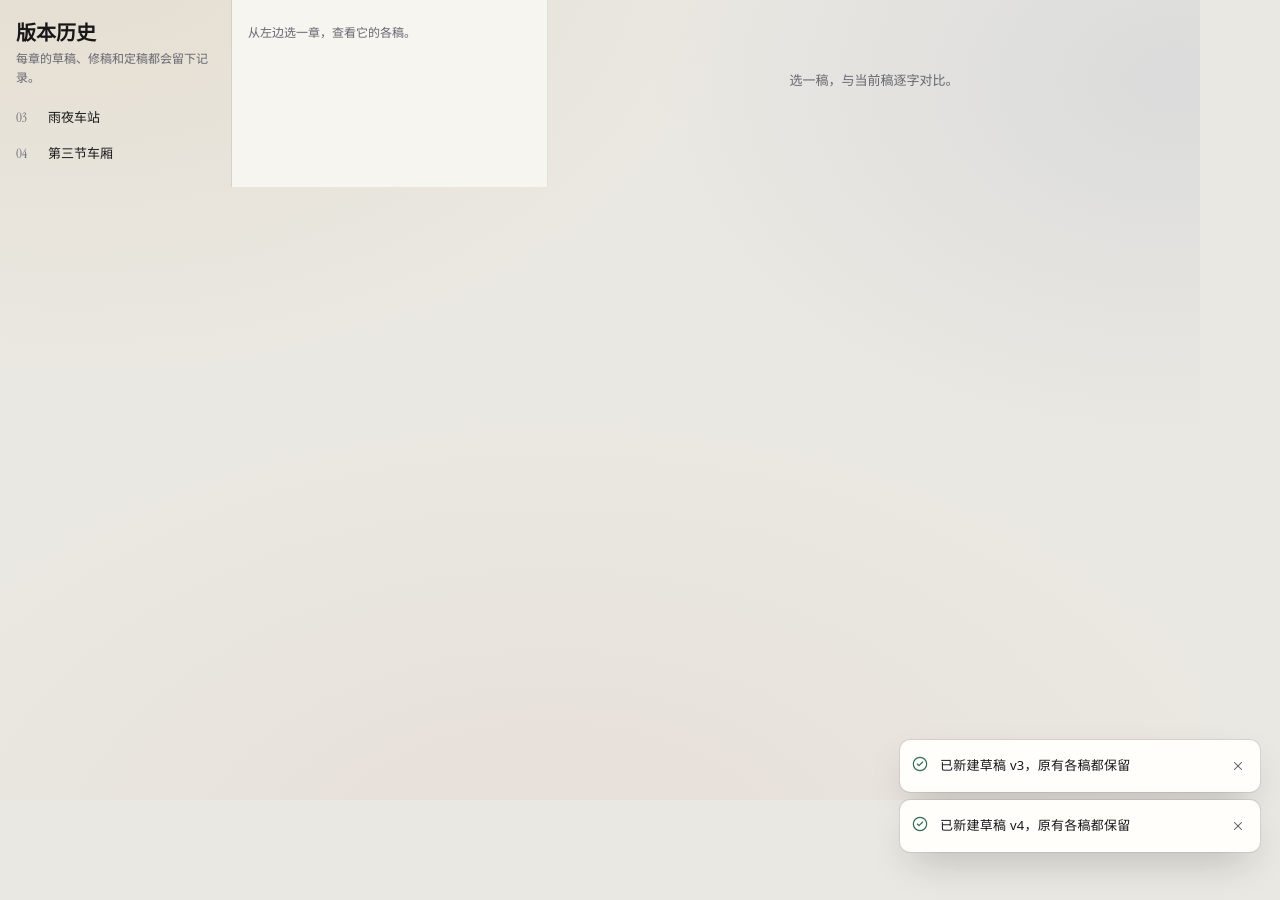
版本历史 › 当前稿没有回退按钮
Click the button "03 雨夜车站" at (116, 117), box [8, 99, 223, 135]
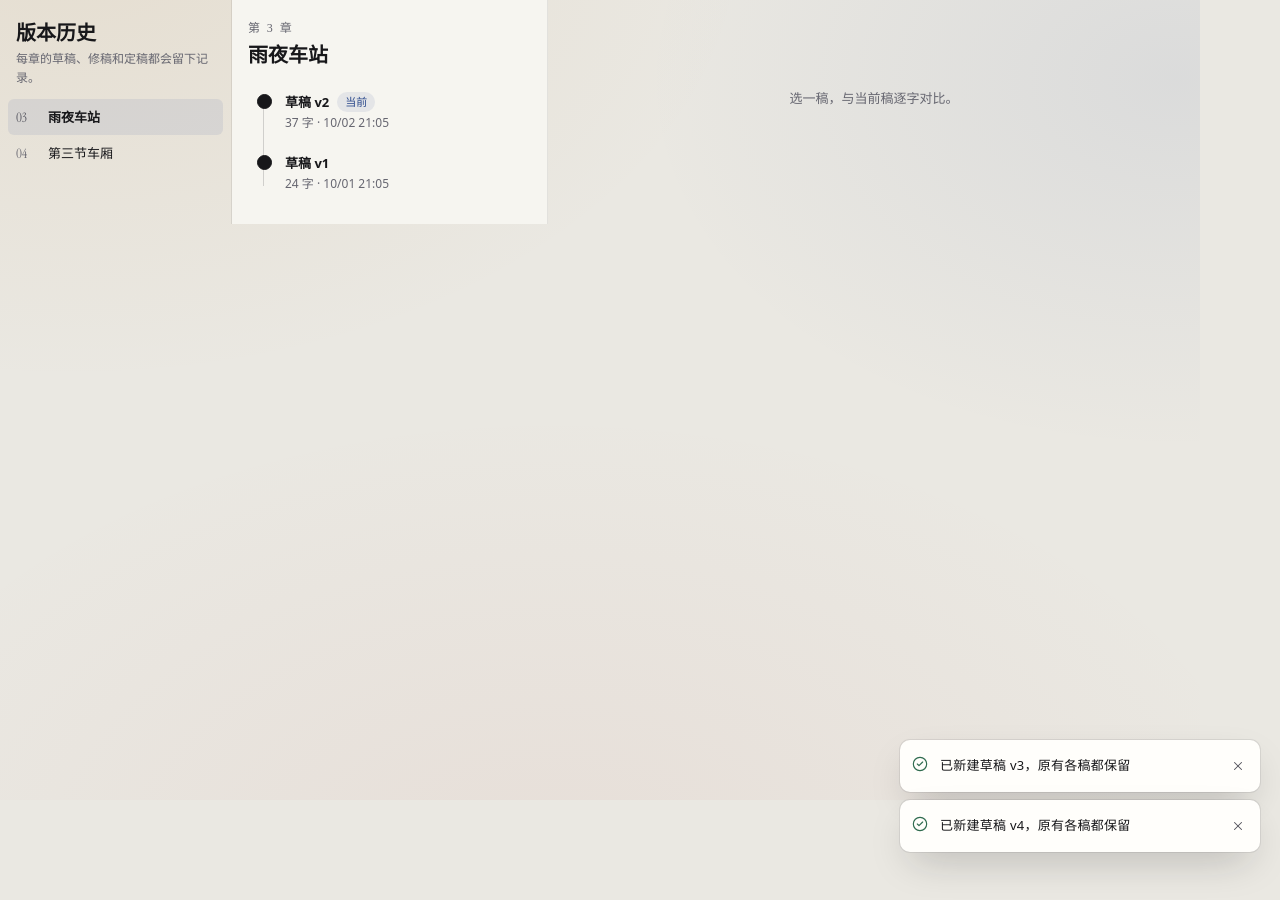
Now the button "草稿 v1 24 字 · 10/01 21:05" is shown, box [248, 144, 531, 202]
Now the button "草稿 v2 当前 37 字 · 10/02 21:05" is shown
Click the button "草稿 v2 当前 37 字 · 10/02 21:05" at (390, 112), box [248, 83, 531, 142]
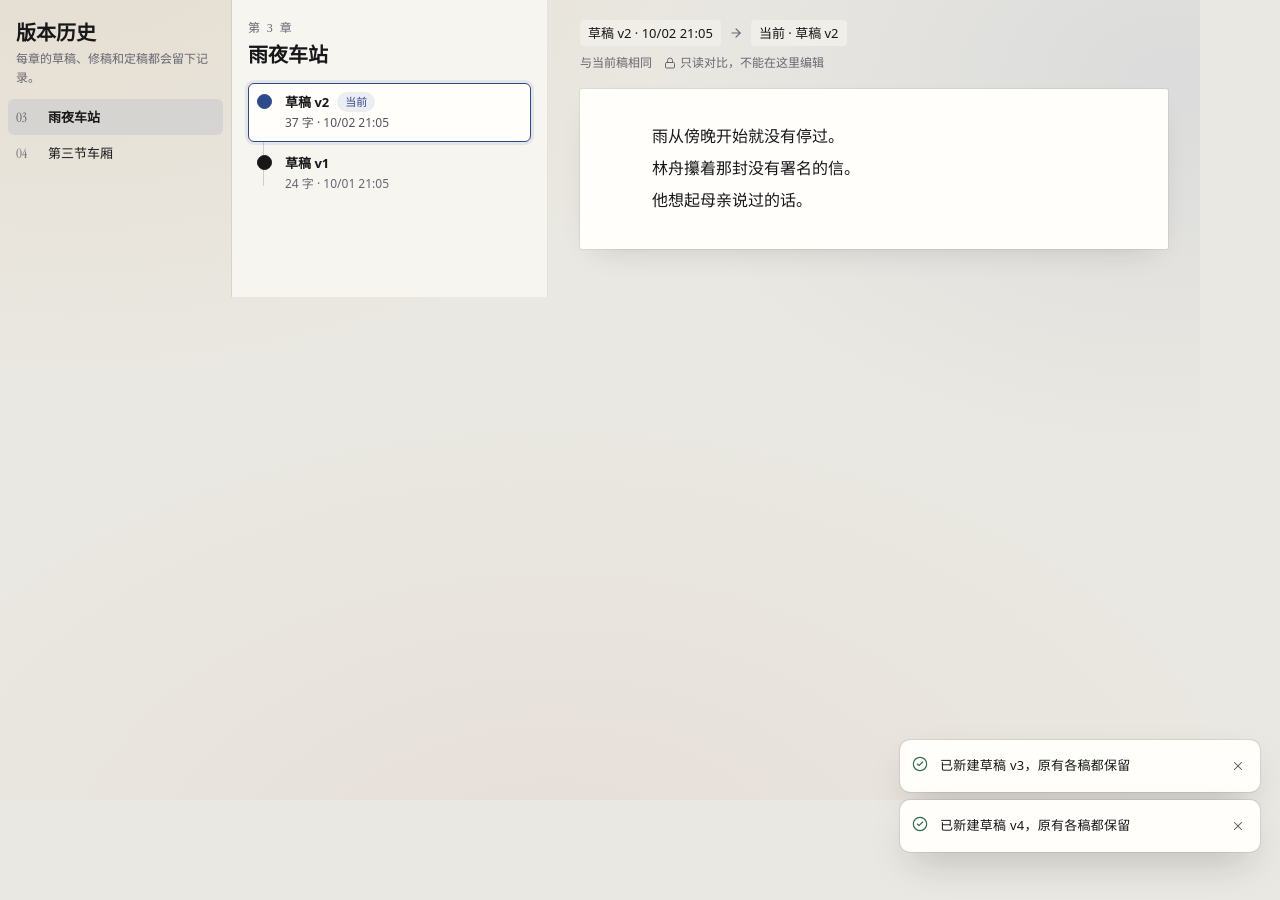
Now the text "与当前稿相同" is shown, box [580, 54, 652, 73]
